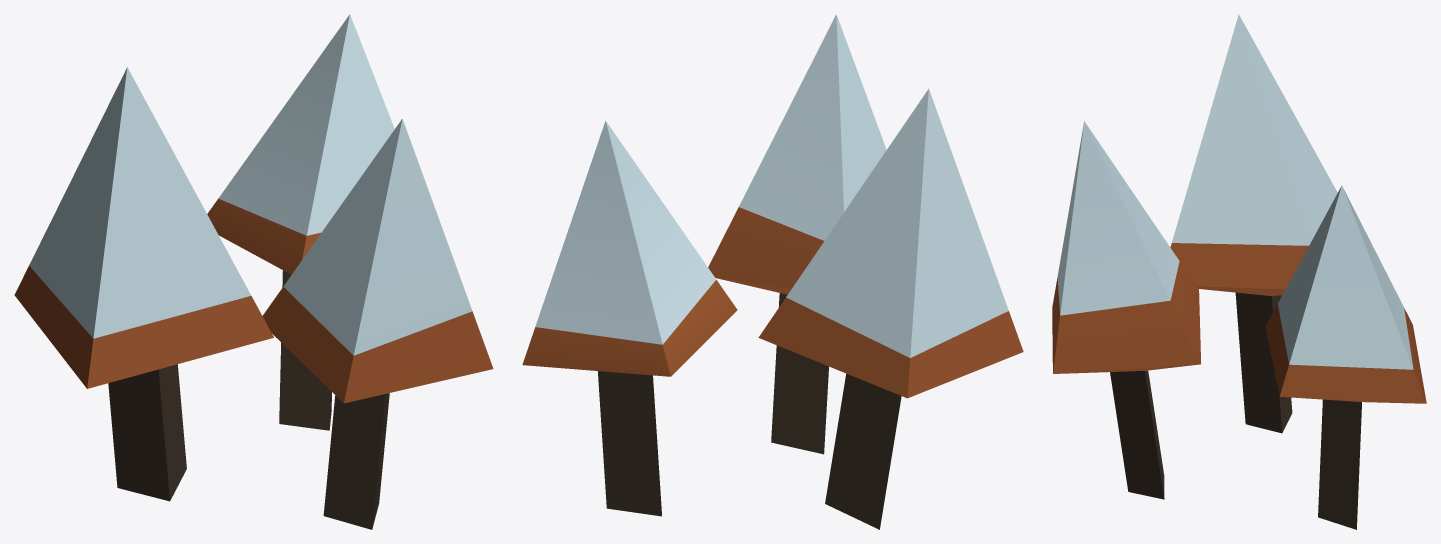
Rendered from SM_Env_Generic_Tree_08_Snow.fbx.
3 renders of one model, left to right at view 1: azimuth 30°, elevation 25°; view 2: azimuth 150°, elevation 25°; view 3: azimuth 270°, elevation 25°, orthographic. The views are drawn at different scales.
Visible parts, largest first — view 1: SM_Env_Generic_Tree_08_Snow; view 2: SM_Env_Generic_Tree_08_Snow; view 3: SM_Env_Generic_Tree_08_Snow.
Part boxes in pixels (x1,y1,x2,y2): SM_Env_Generic_Tree_08_Snow: [14, 14, 493, 529]; SM_Env_Generic_Tree_08_Snow: [522, 14, 1023, 529]; SM_Env_Generic_Tree_08_Snow: [1052, 14, 1426, 529].
Size of the model in its own units: 96.68 by 105 by 88.82.
1 material, 1 textured.
